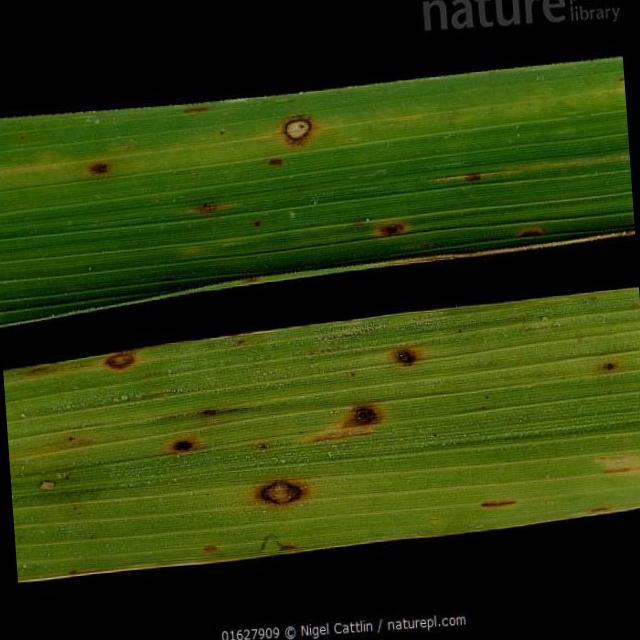Rice_Brownspot: (296, 382, 404, 450), (240, 466, 334, 519), (359, 196, 426, 246), (377, 338, 439, 390), (146, 420, 212, 464), (86, 335, 150, 375), (583, 342, 628, 393), (275, 101, 325, 146), (75, 140, 118, 190), (181, 192, 248, 220), (473, 490, 531, 520), (18, 469, 65, 494), (188, 536, 236, 558), (454, 162, 486, 190), (172, 99, 218, 117), (509, 220, 553, 238), (260, 148, 290, 166)
